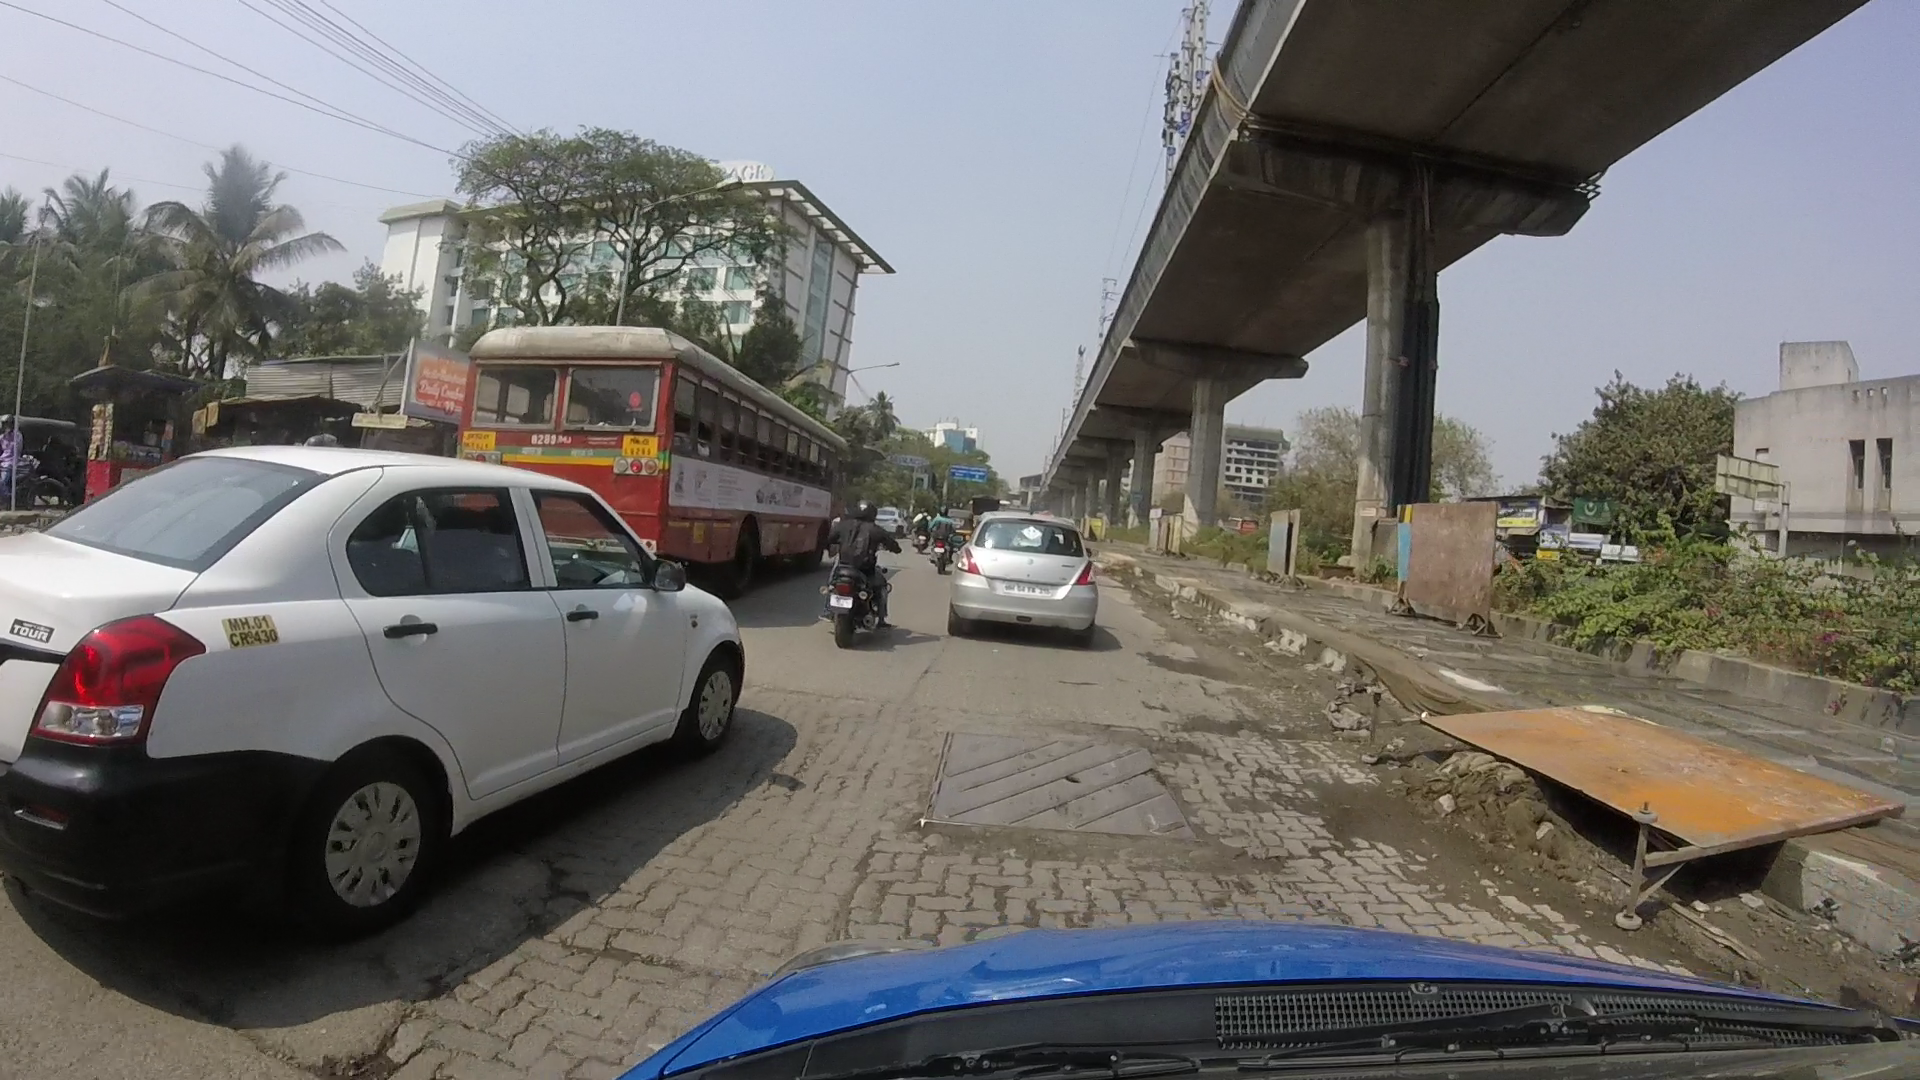bike/scooter: (808, 489, 887, 642)
bus: (465, 327, 837, 583)
car: (16, 448, 769, 916), (957, 498, 1093, 640)
